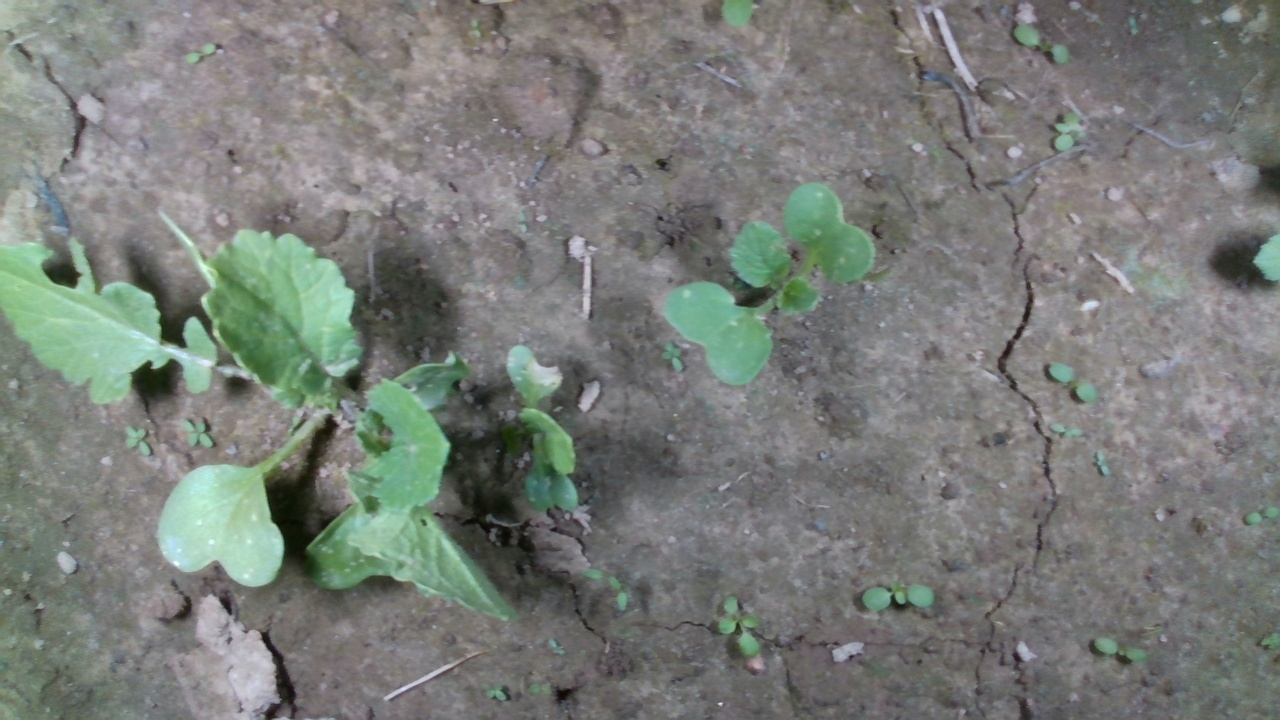weed: (715, 593, 762, 659), (856, 579, 935, 614), (1011, 21, 1071, 67), (1047, 360, 1098, 404), (1091, 634, 1151, 664), (176, 413, 215, 450), (1051, 108, 1081, 152), (121, 423, 152, 459), (660, 340, 685, 374), (182, 41, 216, 64), (1242, 506, 1279, 525), (1091, 448, 1113, 478), (1046, 421, 1084, 438), (482, 686, 508, 702)
